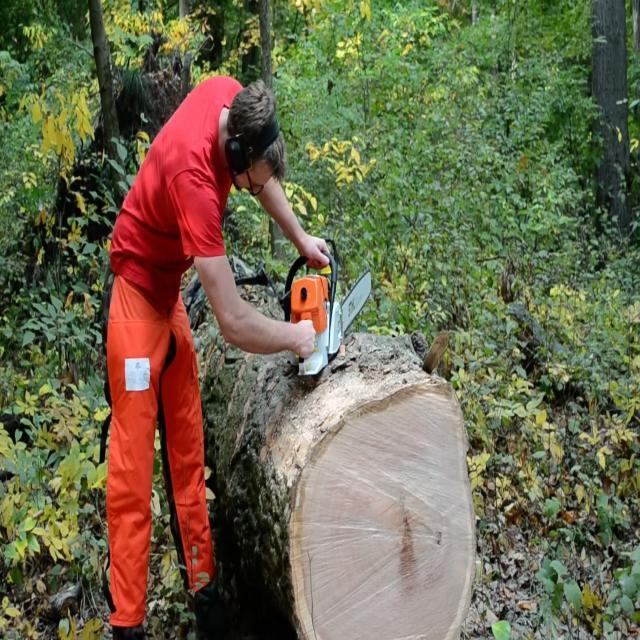Chainsaw: (280, 238, 378, 388)
